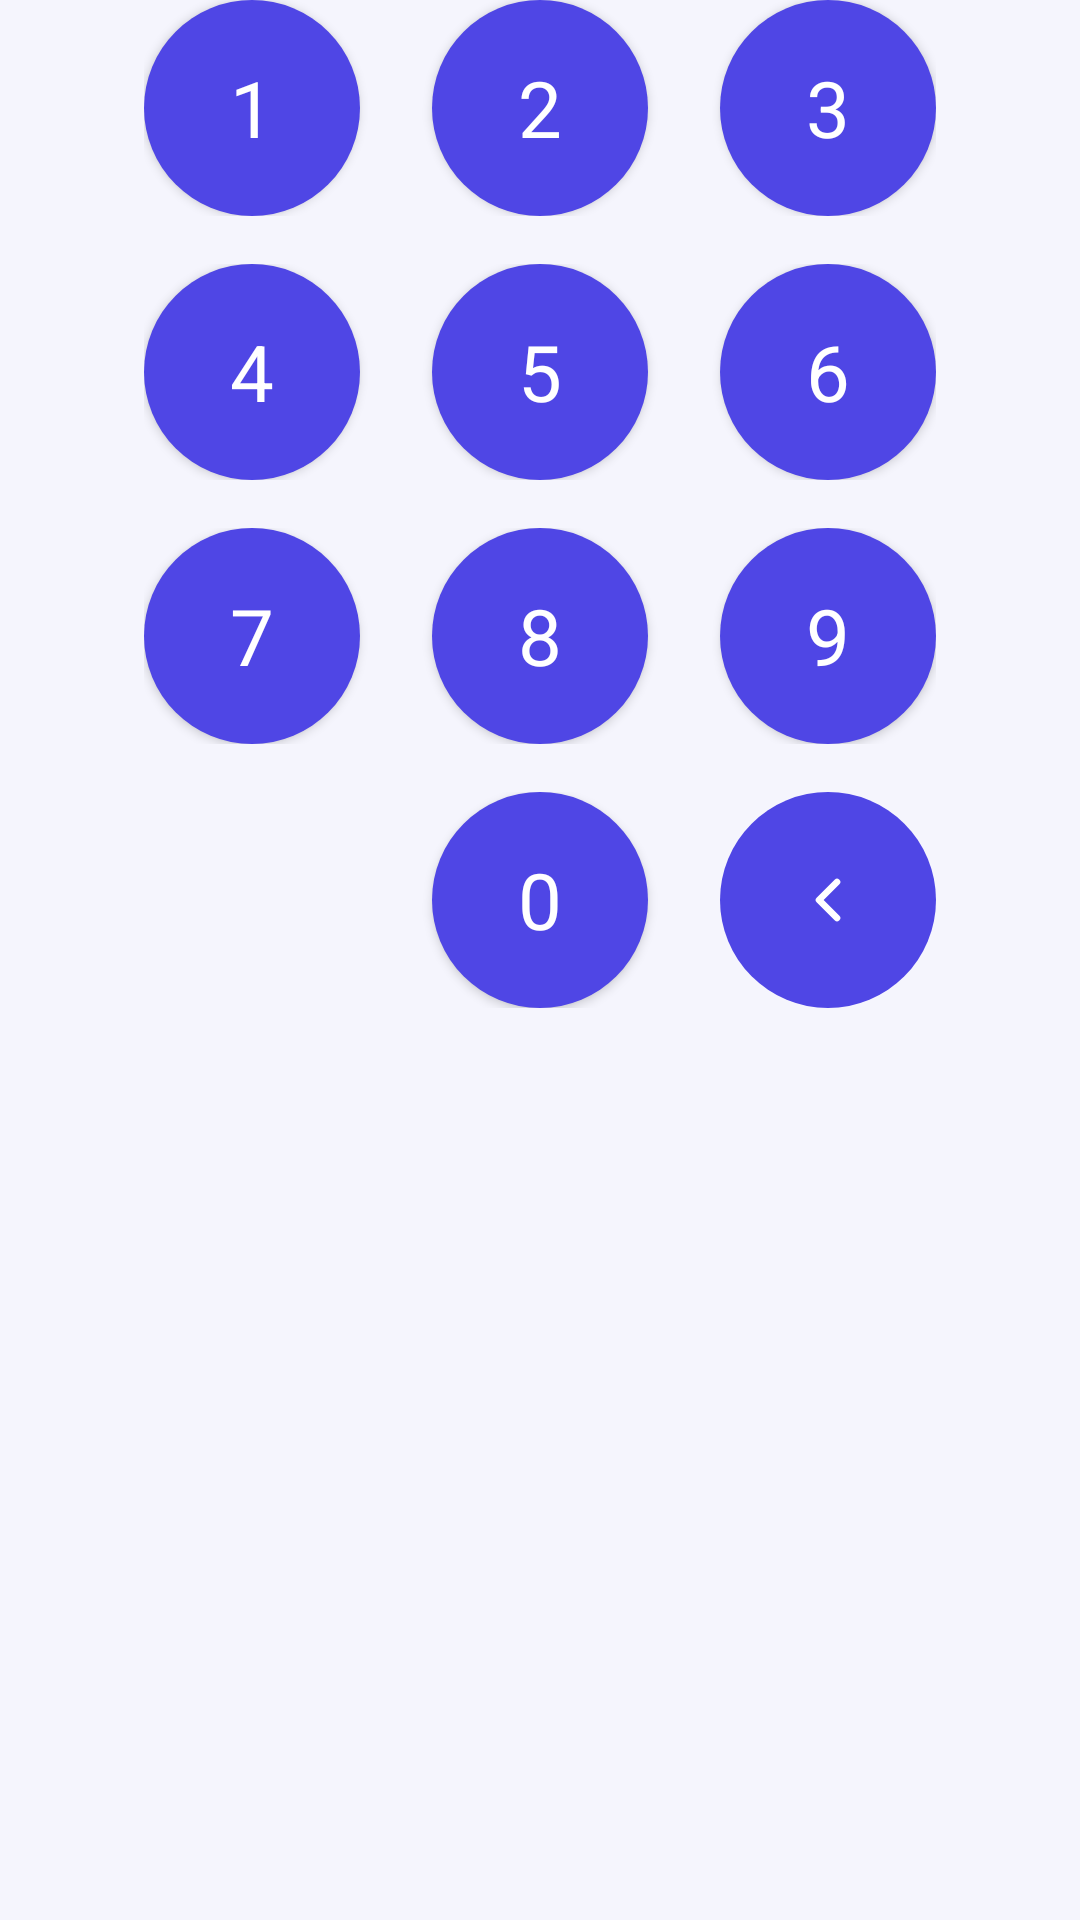

Icons on this 1080*1920 Android screen, each with its box as (x1,y1,x2,y2):
Delete last digit: (720,792,936,1008)
